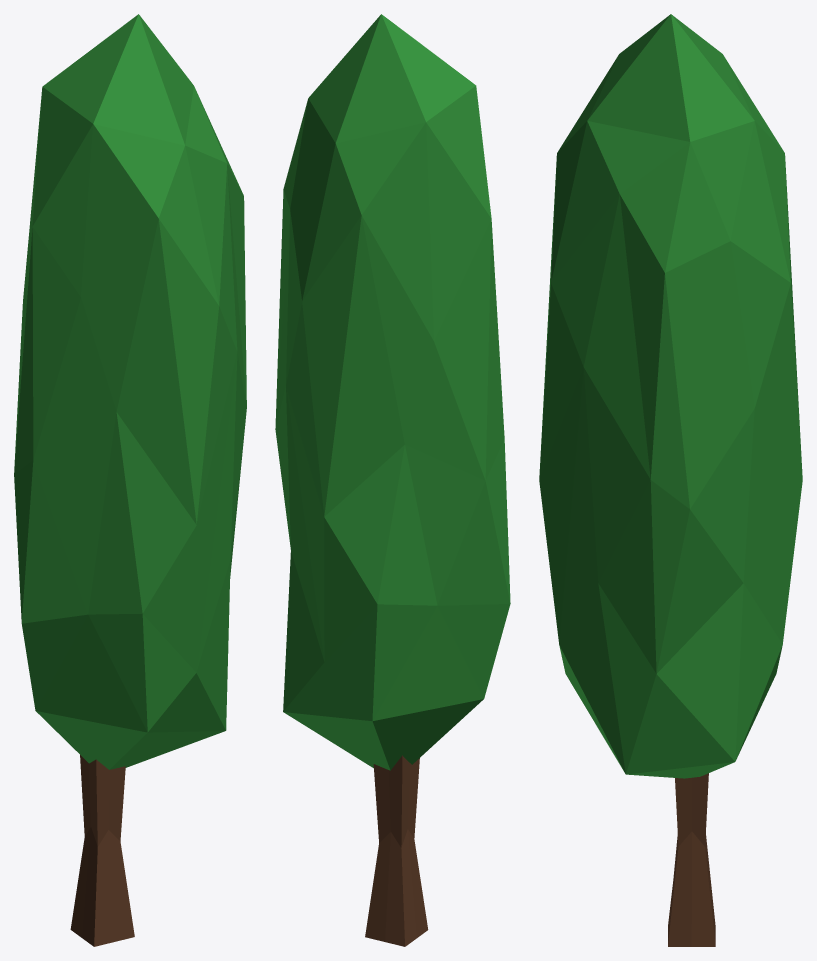
File: Tree_50_Green.fbx
3 views of the same model, side by side, from view 1: azimuth 30°, elevation 25°; view 2: azimuth 150°, elevation 25°; view 3: azimuth 270°, elevation 25° (orthographic). The views are drawn at different scales.
Parts seen in each view (by area): view 1: Tree_50_Green_Part_1, Tree_50_Green_Part_2; view 2: Tree_50_Green_Part_1, Tree_50_Green_Part_2; view 3: Tree_50_Green_Part_1, Tree_50_Green_Part_2.
Boxes of the visible parts, x1,y1,x2,y2 form: Tree_50_Green_Part_1: (14, 14, 246, 769); Tree_50_Green_Part_2: (70, 755, 134, 946); Tree_50_Green_Part_1: (275, 14, 510, 770); Tree_50_Green_Part_2: (365, 755, 428, 946); Tree_50_Green_Part_1: (539, 14, 802, 778); Tree_50_Green_Part_2: (668, 773, 715, 946).
Bounding box in the file's own units: 208 × 810 × 207.
